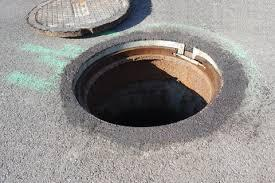open_manhole: (70, 39, 225, 127)
